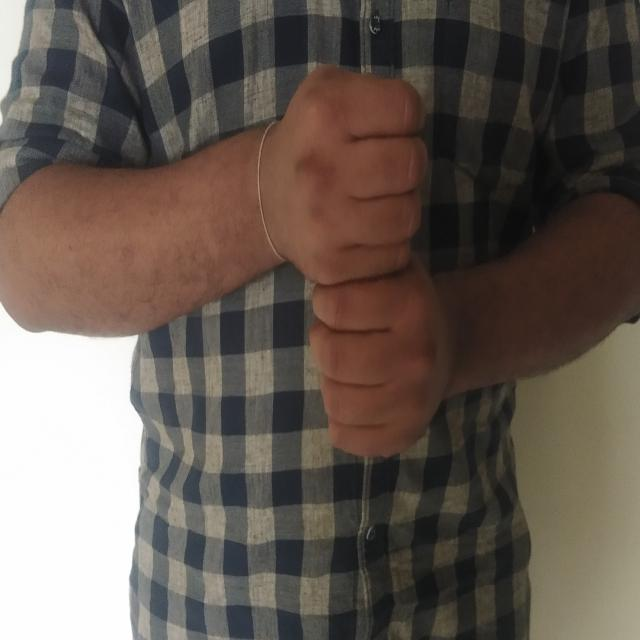G: (235, 37, 478, 487)
